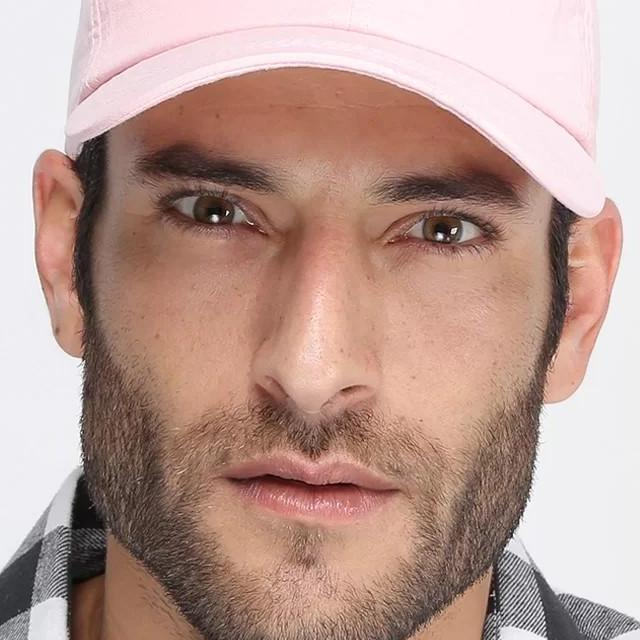NO-Hardhat: (66, 0, 612, 211)
NO-Mask: (106, 393, 532, 640)
Person: (0, 0, 640, 640)
